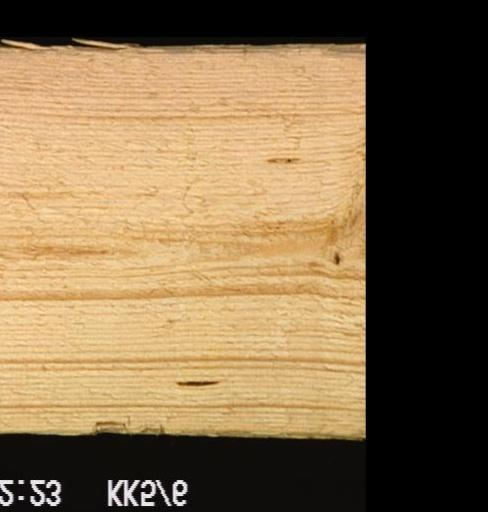small_knot: (324, 243, 352, 274)
